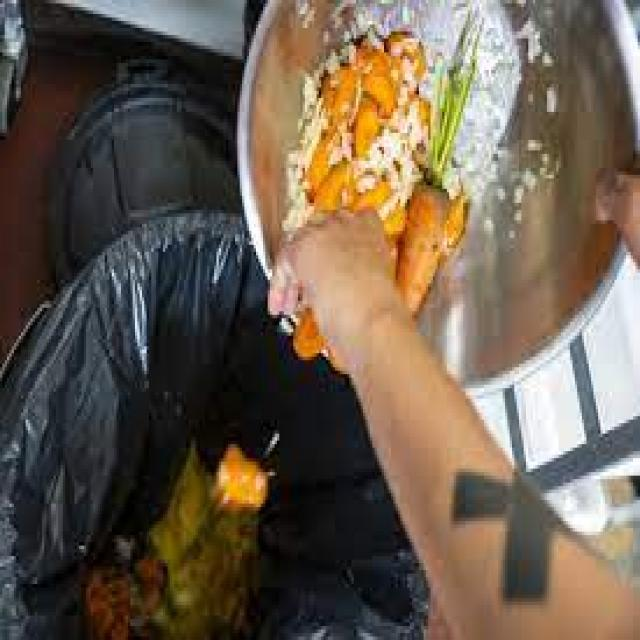Wet: (230, 0, 573, 397), (74, 418, 294, 640), (277, 22, 415, 204)
